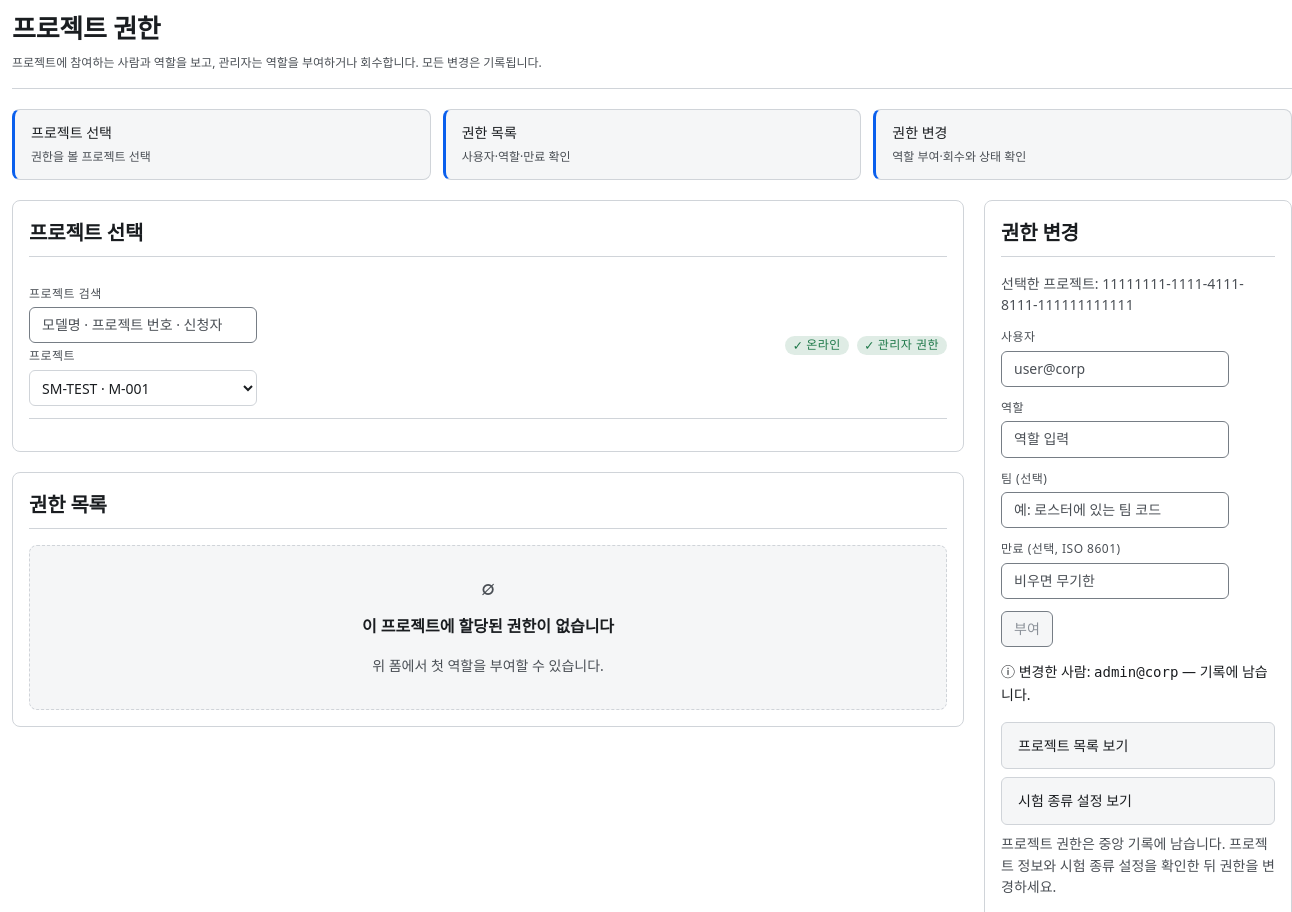
Test case: MembershipRoute admin write (optimistic write + reconcile) › announces success via an aria-live status region after assign
The width and height of the screenshot is (1292, 912).
Expected: the form with test id "membership-assign-form" is shown, [1001,328,1275,706]
Type "bob@corp" into the field with test id "assign-user-input" at [1115, 369], box [1001,351,1229,387]
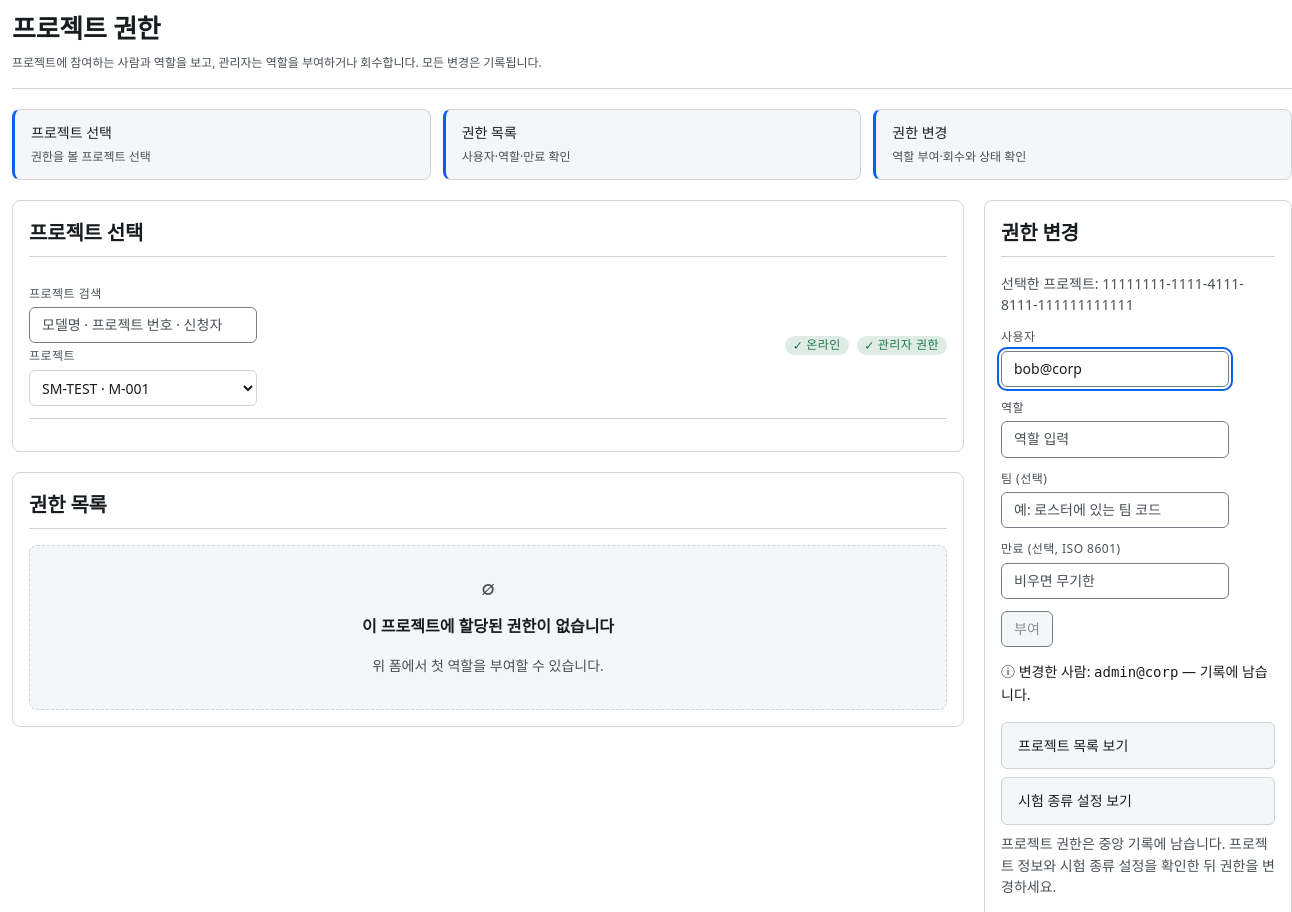
Type "project_viewer" into the field with test id "assign-role-input" at [1115, 440], box [1001,421,1229,458]
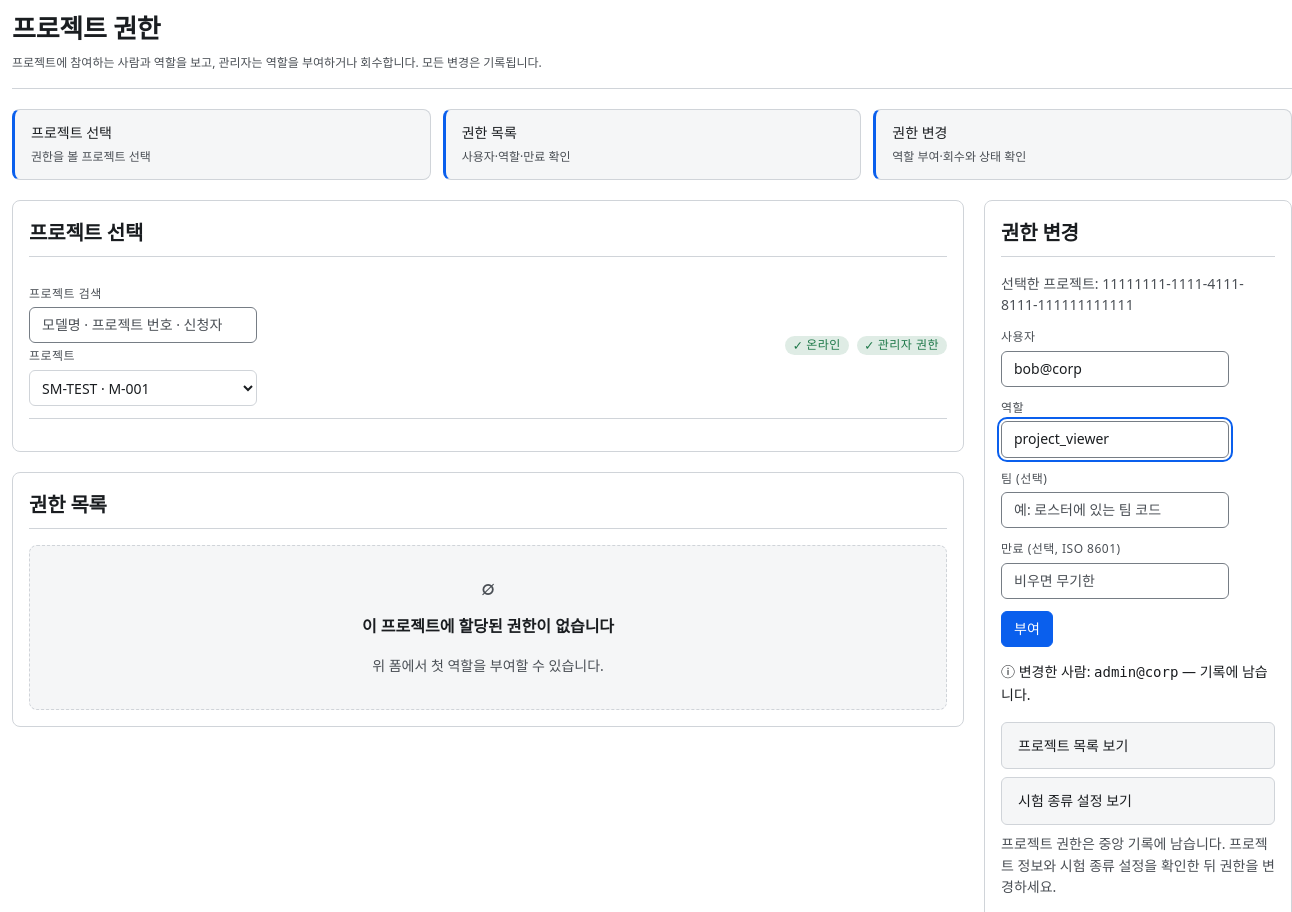
Click the button with test id "assign-submit" at [1027, 629], box [1001,611,1053,647]
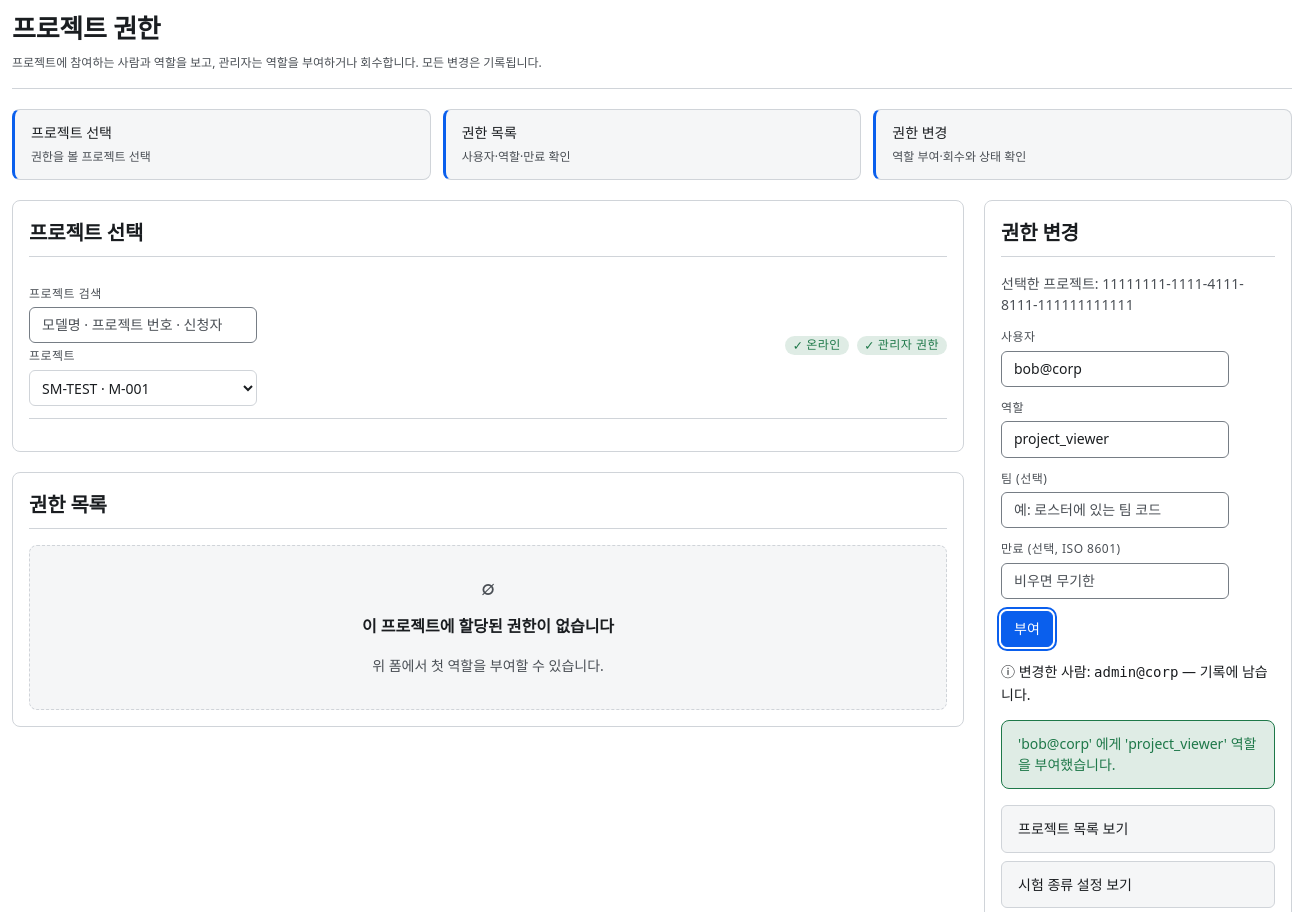
Expected: the message with test id "membership-write-success" shows "bob@corp", [1018,734,1256,774]
Expected: the message with test id "membership-write-success" shows "project_viewer", [1018,734,1256,774]
